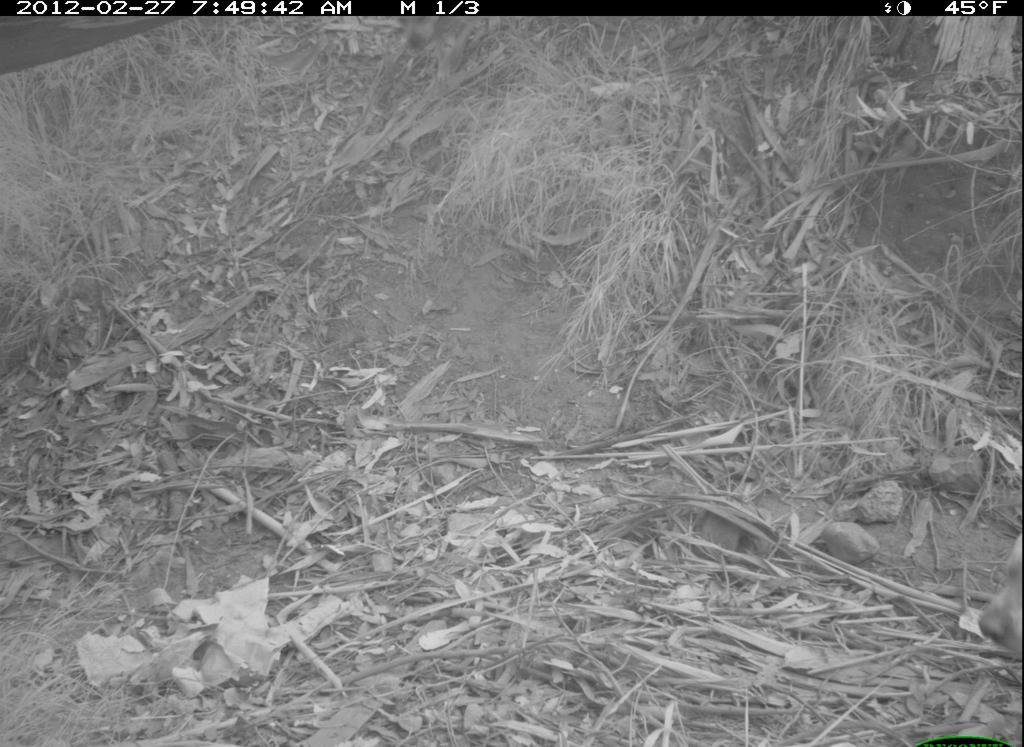dog: (977, 523, 1023, 661)
